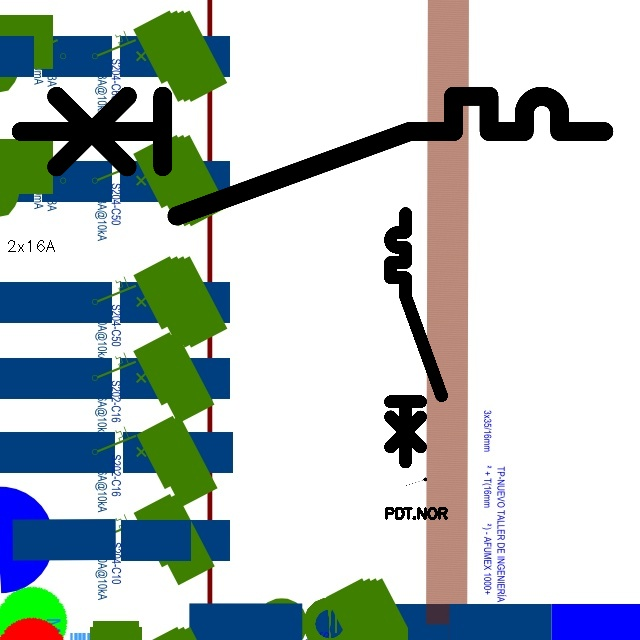interruptor_termomagnetico: (6, 81, 619, 231), (384, 207, 448, 469)
